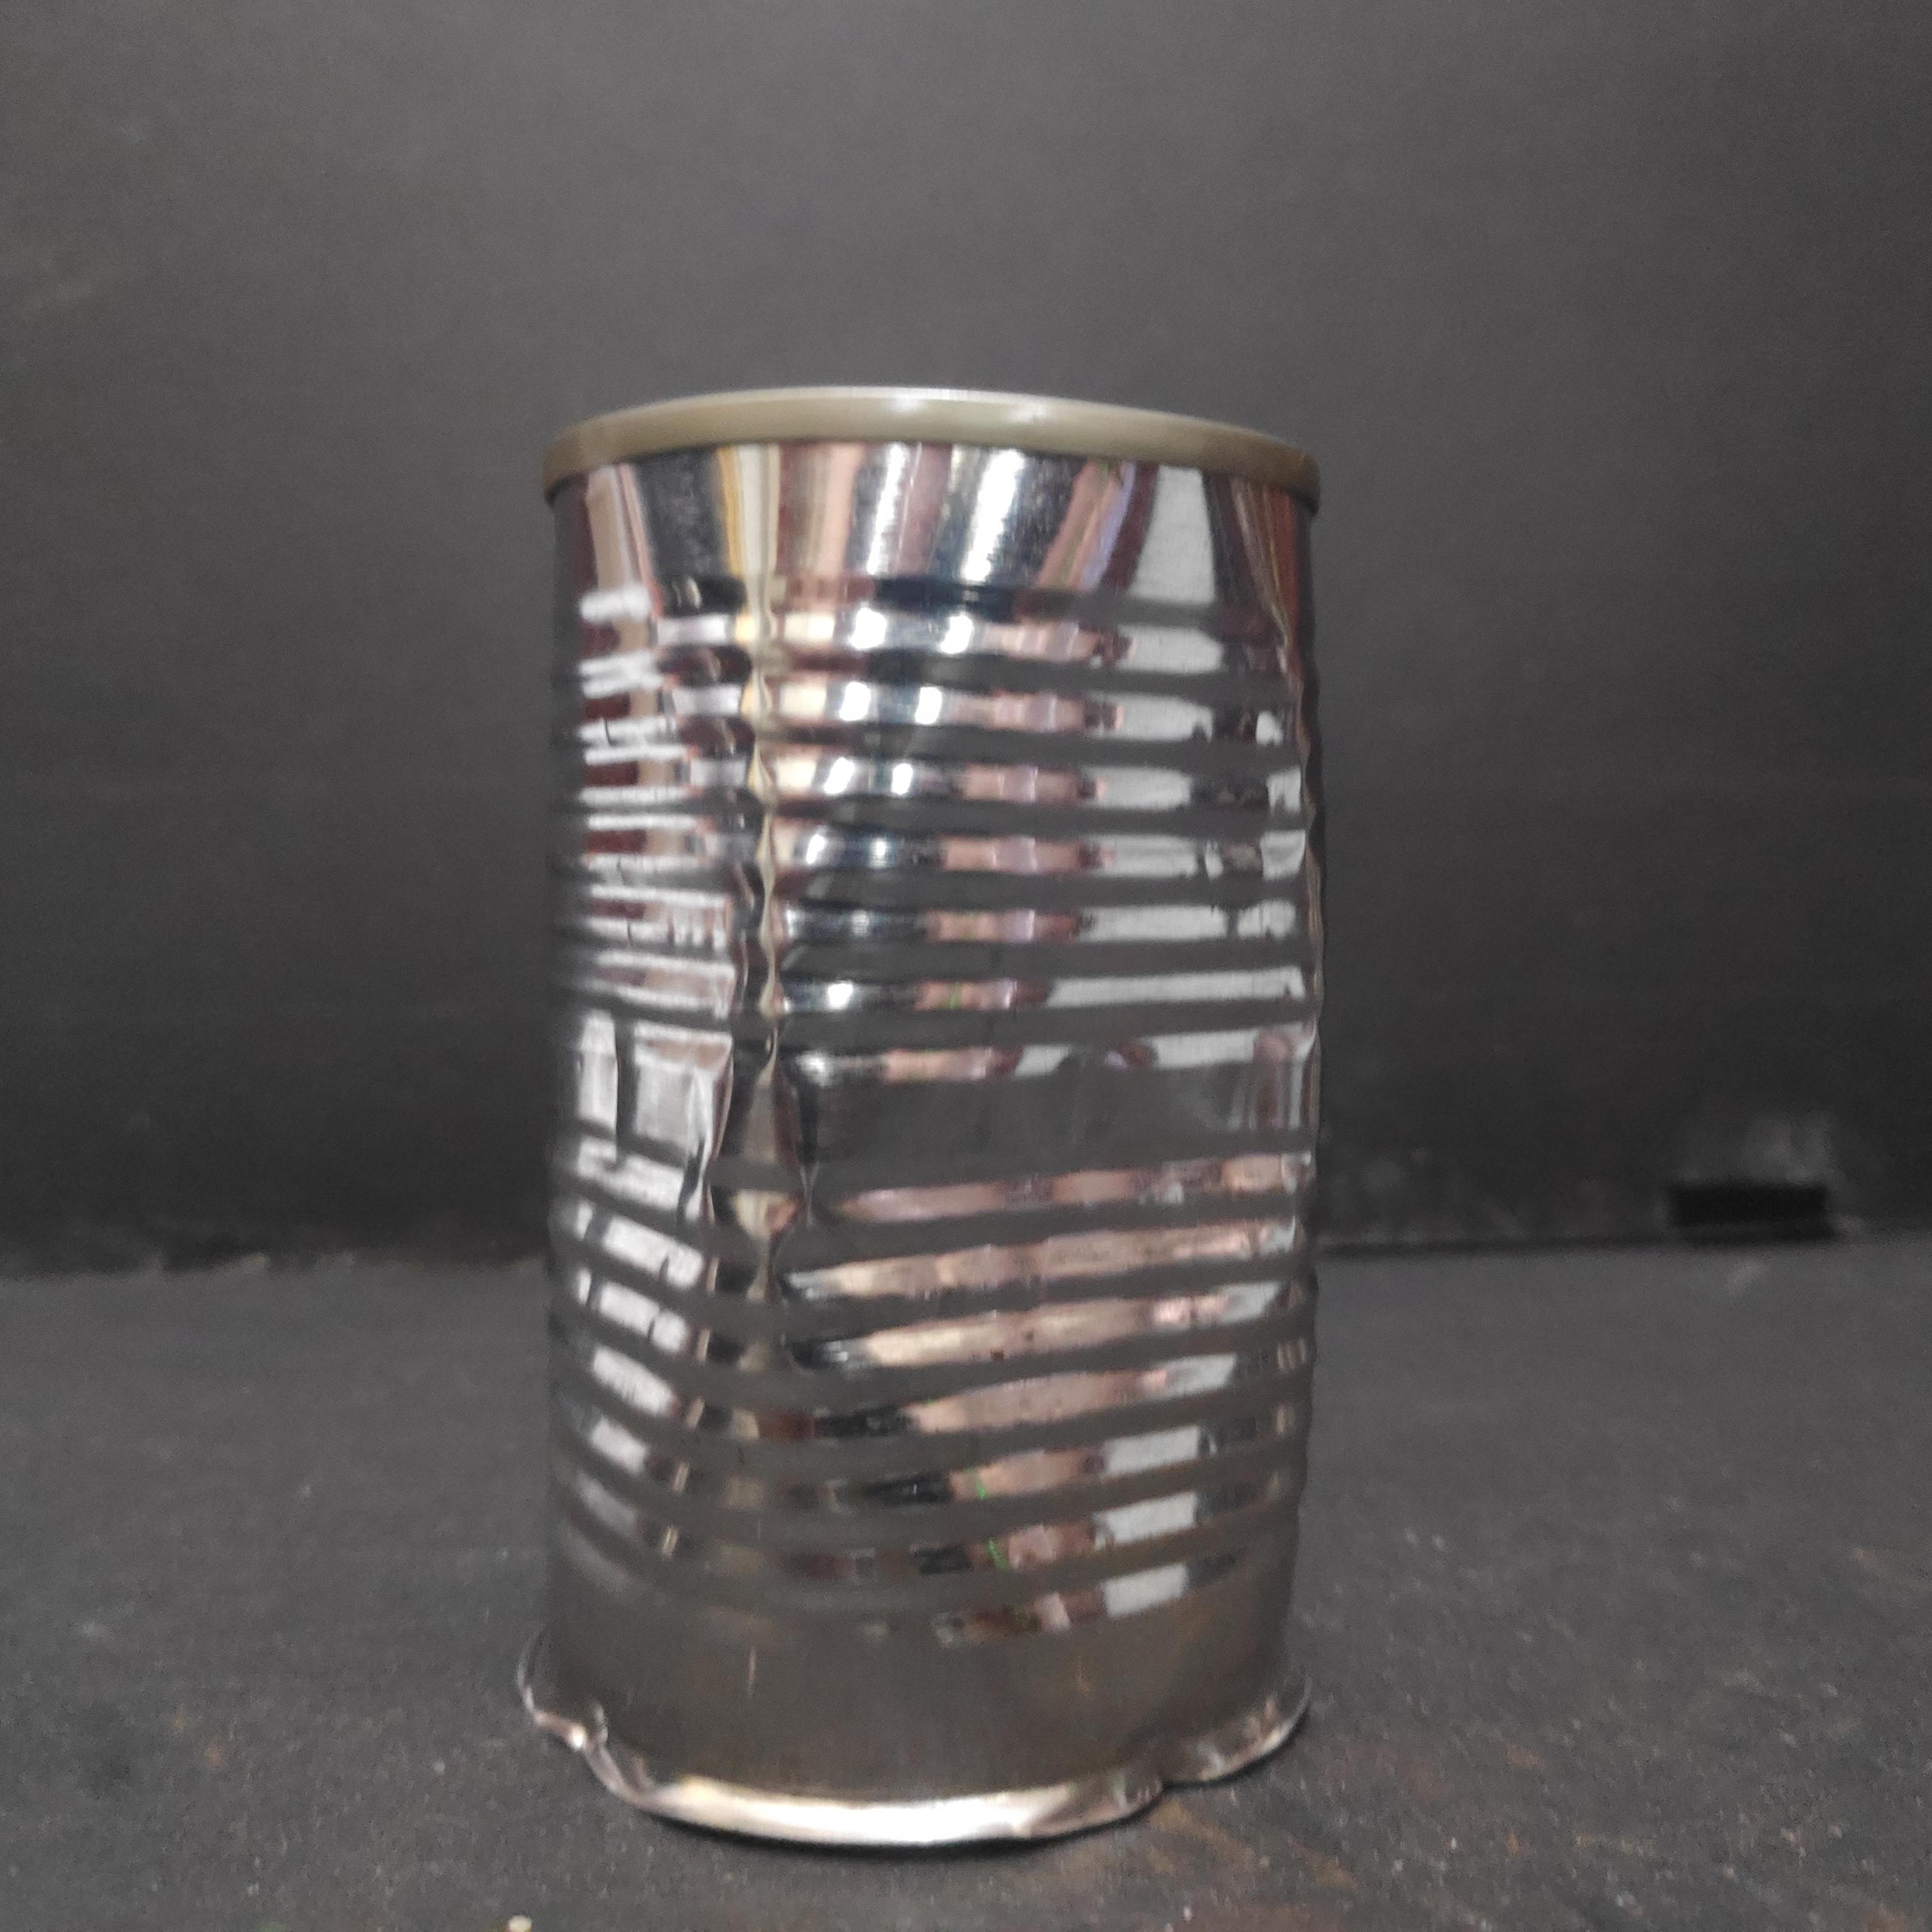Minor Defect: (525, 377, 1339, 1863)
